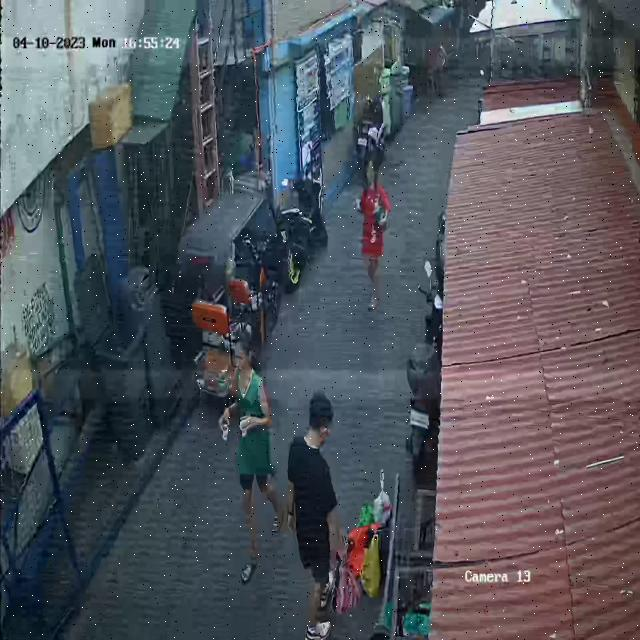human: (288, 392, 361, 640), (219, 330, 284, 585), (353, 156, 391, 309)
trash: (328, 466, 392, 613)
